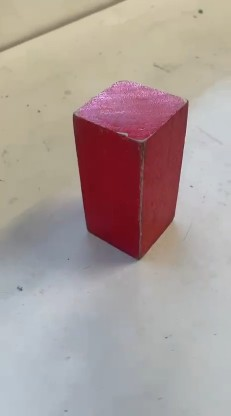red: (75, 87, 189, 241)
